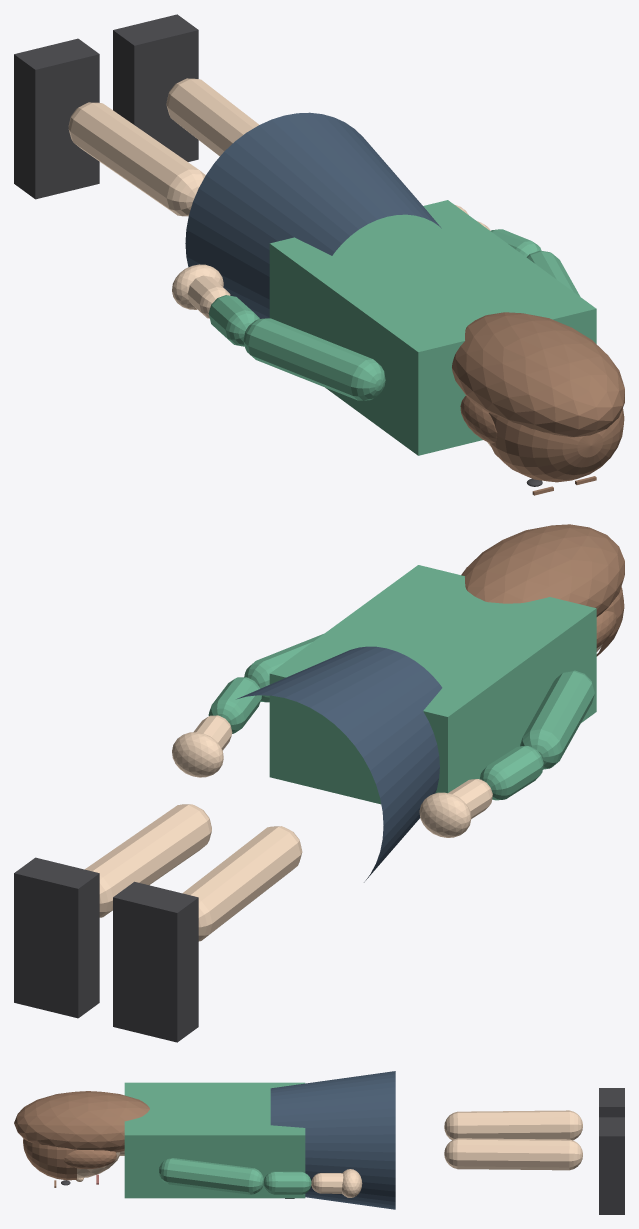
Rendered from CHAR_FEMALE_001_POSE_IDLE_001.glb.
3 views of the same model, one above another, from view 1: azimuth 30°, elevation 25°; view 2: azimuth 150°, elevation 25°; view 3: azimuth 270°, elevation 25° (orthographic). The views are drawn at different scales.
Visible parts, largest first — view 1: CHAR_FEMALE_001_torso_jacket, CHAR_FEMALE_001_skirt, CHAR_FEMALE_001_back_hair, CHAR_FEMALE_001_shoe_L, CHAR_FEMALE_001_shoe_R, CHAR_FEMALE_001_calf_L, CHAR_FEMALE_001_upper_arm_L, CHAR_FEMALE_001_hair_cap, CHAR_FEMALE_001_calf_R, CHAR_FEMALE_001_forearm_L, CHAR_FEMALE_001_hand_L, CHAR_FEMALE_001_hair_side_L (+2 smaller); view 2: CHAR_FEMALE_001_torso_jacket, CHAR_FEMALE_001_skirt, CHAR_FEMALE_001_shoe_R, CHAR_FEMALE_001_shoe_L, CHAR_FEMALE_001_back_hair, CHAR_FEMALE_001_calf_L, CHAR_FEMALE_001_calf_R, CHAR_FEMALE_001_upper_arm_L, CHAR_FEMALE_001_forearm_L, CHAR_FEMALE_001_hand_L, CHAR_FEMALE_001_hand_R, CHAR_FEMALE_001_forearm_R (+3 smaller); view 3: CHAR_FEMALE_001_torso_jacket, CHAR_FEMALE_001_skirt, CHAR_FEMALE_001_back_hair, CHAR_FEMALE_001_calf_R, CHAR_FEMALE_001_calf_L, CHAR_FEMALE_001_upper_arm_R, CHAR_FEMALE_001_shoe_R, CHAR_FEMALE_001_hair_cap, CHAR_FEMALE_001_forearm_R, CHAR_FEMALE_001_hair_side_R, CHAR_FEMALE_001_shoe_L, CHAR_FEMALE_001_wrist_R (+2 smaller).
Boxes of the visible parts, box(x1,y1,x2,y2) form: CHAR_FEMALE_001_torso_jacket: box(269, 200, 596, 455); CHAR_FEMALE_001_skirt: box(185, 112, 441, 318); CHAR_FEMALE_001_back_hair: box(452, 312, 624, 437); CHAR_FEMALE_001_shoe_L: box(14, 38, 99, 199); CHAR_FEMALE_001_shoe_R: box(113, 14, 198, 161); CHAR_FEMALE_001_calf_L: box(68, 102, 205, 216); CHAR_FEMALE_001_upper_arm_L: box(243, 318, 385, 400); CHAR_FEMALE_001_hair_cap: box(489, 408, 624, 482); CHAR_FEMALE_001_calf_R: box(166, 78, 259, 156); CHAR_FEMALE_001_forearm_L: box(208, 295, 259, 346); CHAR_FEMALE_001_hand_L: box(172, 264, 223, 309); CHAR_FEMALE_001_hair_side_L: box(460, 396, 497, 443); CHAR_FEMALE_001_torso_jacket: box(269, 565, 596, 804); CHAR_FEMALE_001_skirt: box(236, 646, 442, 882); CHAR_FEMALE_001_shoe_R: box(14, 857, 99, 1018); CHAR_FEMALE_001_shoe_L: box(113, 881, 198, 1042); CHAR_FEMALE_001_back_hair: box(461, 524, 624, 616); CHAR_FEMALE_001_calf_L: box(182, 826, 302, 941); CHAR_FEMALE_001_calf_R: box(85, 804, 211, 917); CHAR_FEMALE_001_upper_arm_L: box(520, 670, 594, 769); CHAR_FEMALE_001_forearm_L: box(480, 746, 543, 800); CHAR_FEMALE_001_hand_L: box(419, 792, 471, 837); CHAR_FEMALE_001_hand_R: box(172, 732, 223, 777); CHAR_FEMALE_001_forearm_R: box(208, 677, 261, 733); CHAR_FEMALE_001_torso_jacket: box(124, 1082, 305, 1198); CHAR_FEMALE_001_skirt: box(270, 1071, 395, 1209); CHAR_FEMALE_001_back_hair: box(14, 1091, 149, 1152); CHAR_FEMALE_001_calf_R: box(444, 1138, 582, 1170); CHAR_FEMALE_001_calf_L: box(444, 1110, 582, 1140); CHAR_FEMALE_001_upper_arm_R: box(159, 1158, 263, 1194); CHAR_FEMALE_001_shoe_R: box(599, 1117, 624, 1214); CHAR_FEMALE_001_hair_cap: box(23, 1139, 76, 1180); CHAR_FEMALE_001_forearm_R: box(263, 1171, 311, 1194); CHAR_FEMALE_001_hair_side_R: box(64, 1150, 116, 1169); CHAR_FEMALE_001_shoe_L: box(599, 1088, 624, 1117); CHAR_FEMALE_001_wrist_R: box(311, 1173, 343, 1193).
Size of the model in its own units: 0.6185 by 0.3884 by 1.71.
